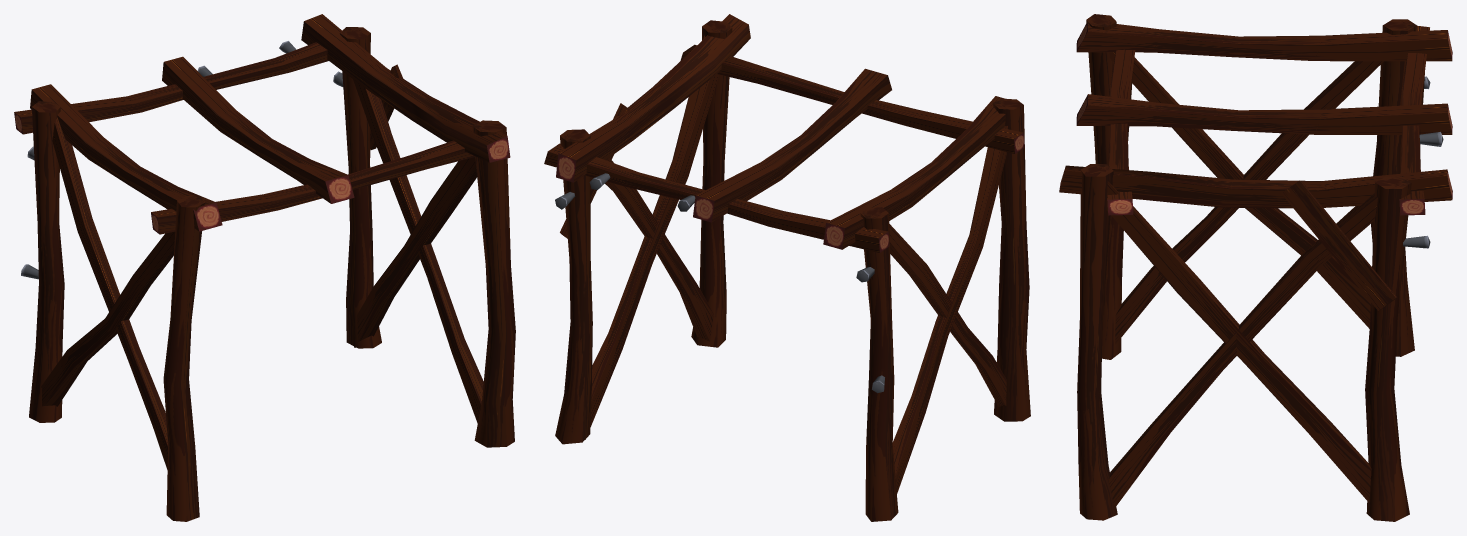
File: mercadillo02.glb
The picture shows the model from 3 angles, left to right: view 1: azimuth 30°, elevation 25°; view 2: azimuth 150°, elevation 25°; view 3: azimuth 270°, elevation 25°; orthographic projection. The views are drawn at different scales.
Visible parts, largest first — view 1: SM_PROP_market_v01_02; view 2: SM_PROP_market_v01_02; view 3: SM_PROP_market_v01_02.
Part boxes in pixels (x1=…): SM_PROP_market_v01_02: x1=14, y1=14, x2=515, y2=521; SM_PROP_market_v01_02: x1=544, y1=14, x2=1030, y2=521; SM_PROP_market_v01_02: x1=1059, y1=14, x2=1452, y2=521.
Bounding box in the file's own units: 3.91 × 3.47 × 3.62.
3 materials, 3 textured.
